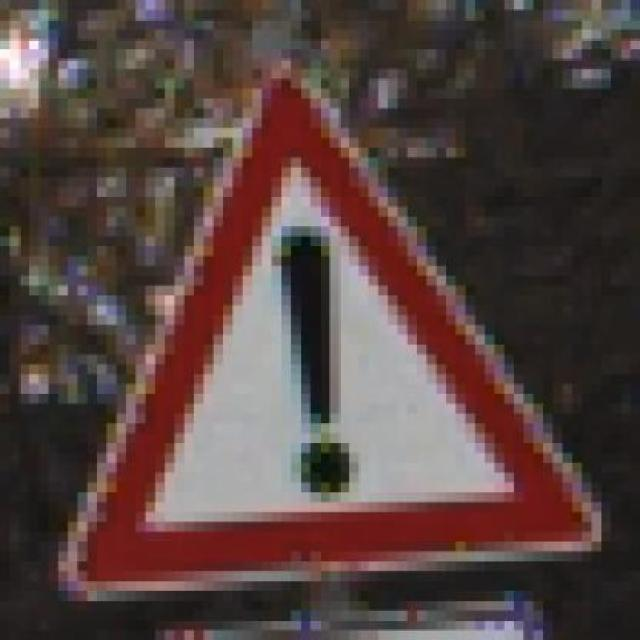Attention Please-: (39, 59, 630, 601)
